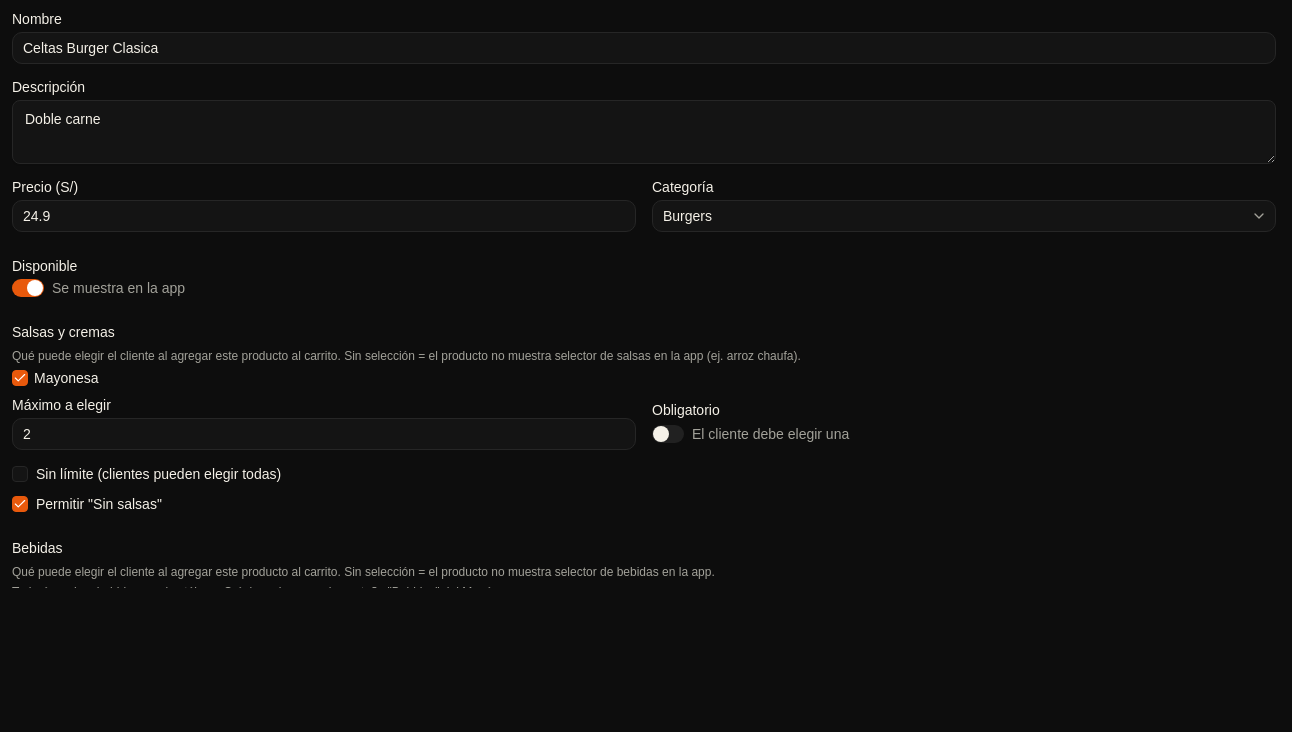
Test case: ItemForm - salsas "Sin límite" › QA: tras un error de validación, marcar "Sin límite" limpia el error del input
Clear the number field labelled "Máximo a elegir" at (324, 434), box [12,418,636,450]
(page scrolled)
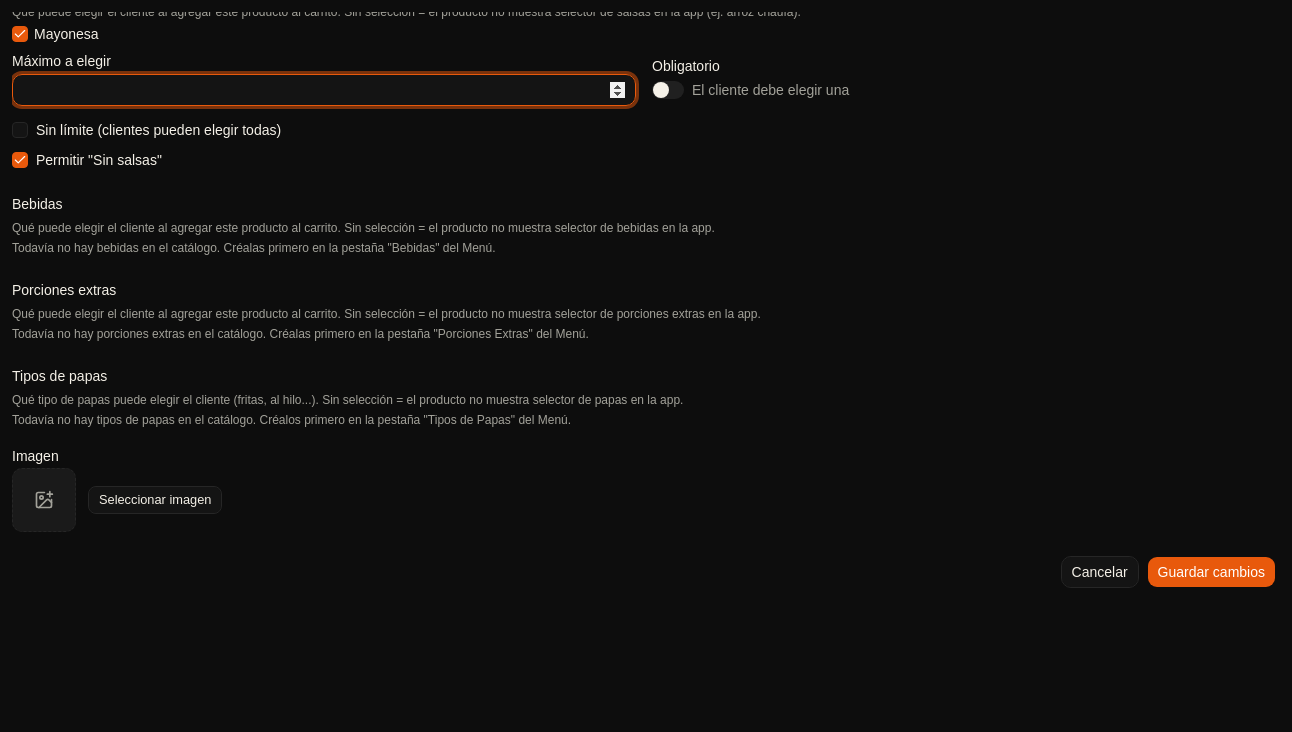
Click the button "Guardar cambios".
click(1211, 572)  # box [1147,556,1276,588]
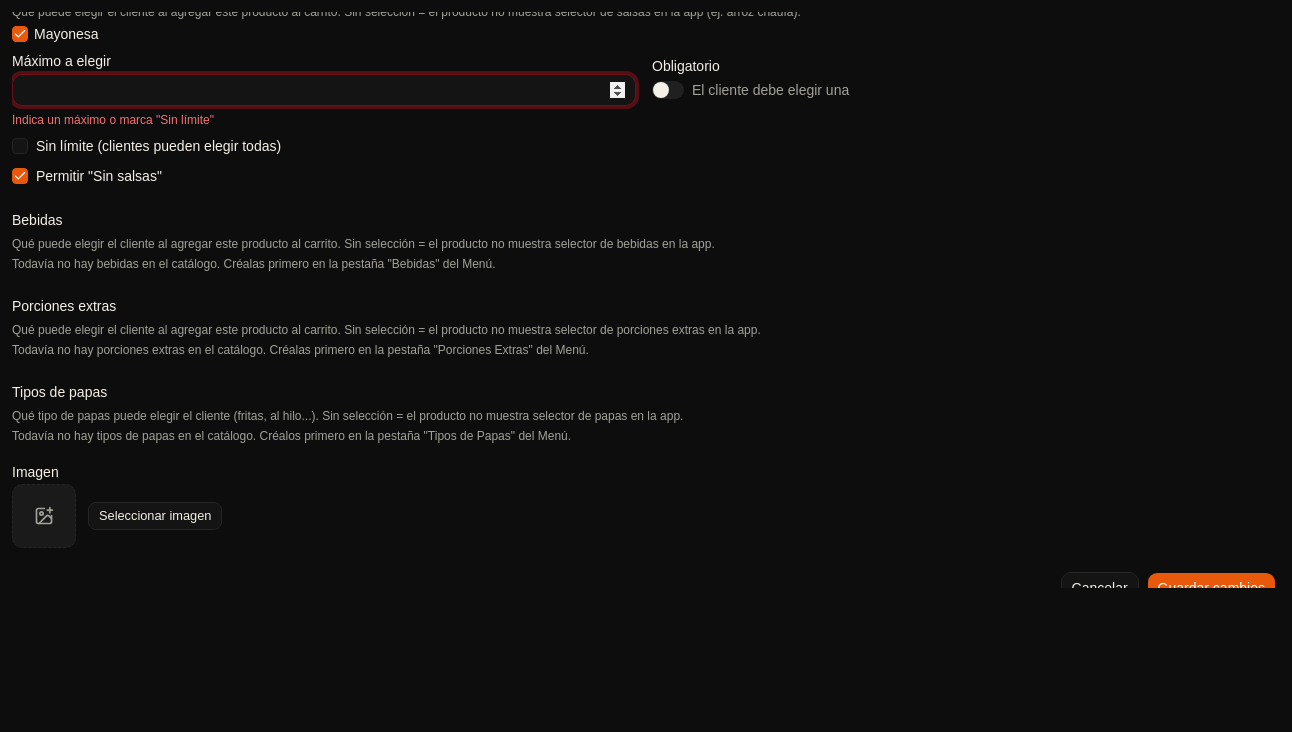
Expected: the text "Indica un máximo o marca \"Sin límite\"" is shown, [12,113,214,127]
Click the checkbox named "Sin límite (clientes pueden elegir todas)" below "Indica un máximo o marca \"Sin límite\"".
click(20, 146)  # box [12,138,28,154]
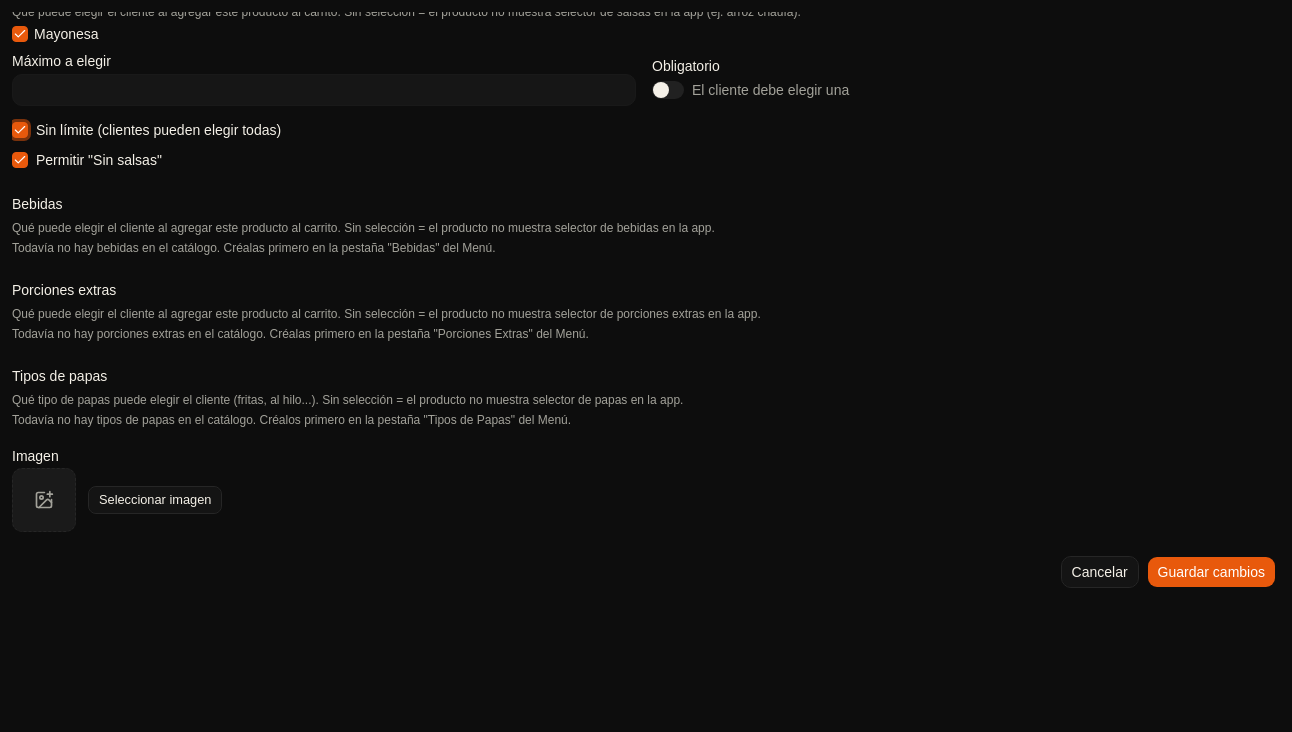
Expected: the text "Indica un máximo o marca \"Sin límite\"" is gone
